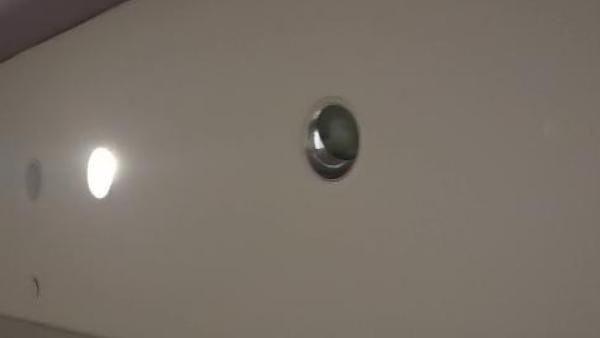light_off: (296, 74, 377, 189)
